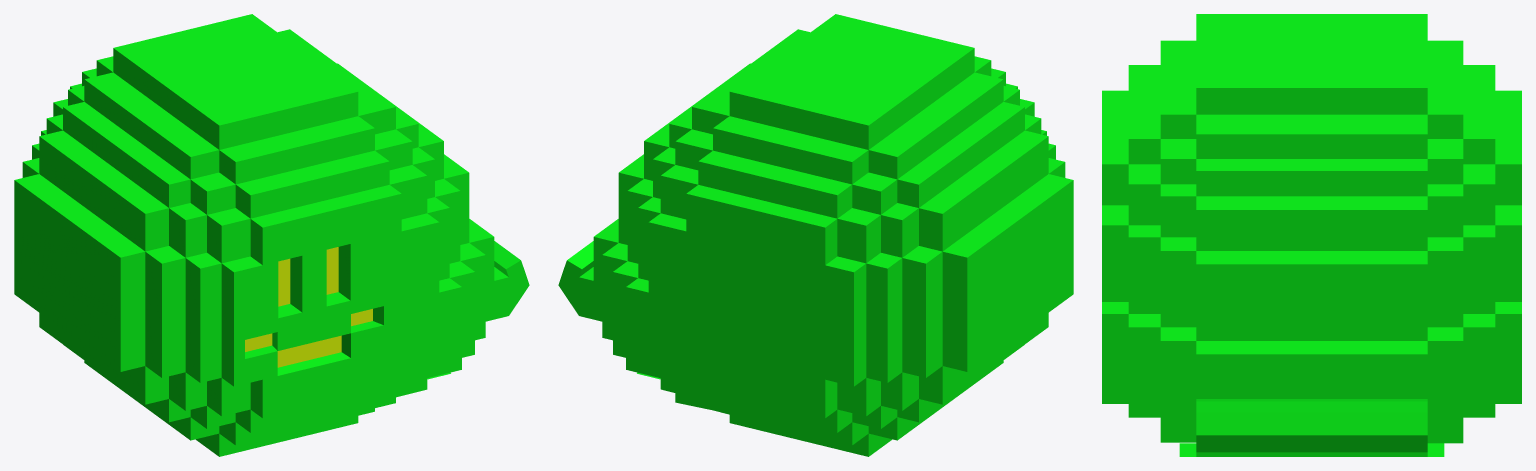
Rendered from P3_Green_Ghost.fbx.
The picture shows the model from 3 angles, left to right: view 1: azimuth 30°, elevation 25°; view 2: azimuth 150°, elevation 25°; view 3: azimuth 270°, elevation 25°; orthographic projection. The views are drawn at different scales.
Parts seen in each view (by area): view 1: Green Boo; view 2: Green Boo; view 3: Green Boo.
Part boxes in pixels (x1,y1,x2,y2): Green Boo: (14,14,529,456); Green Boo: (558,14,1073,456); Green Boo: (1102,14,1521,456).
Bounding box in the file's own units: 178 × 138 × 145.
